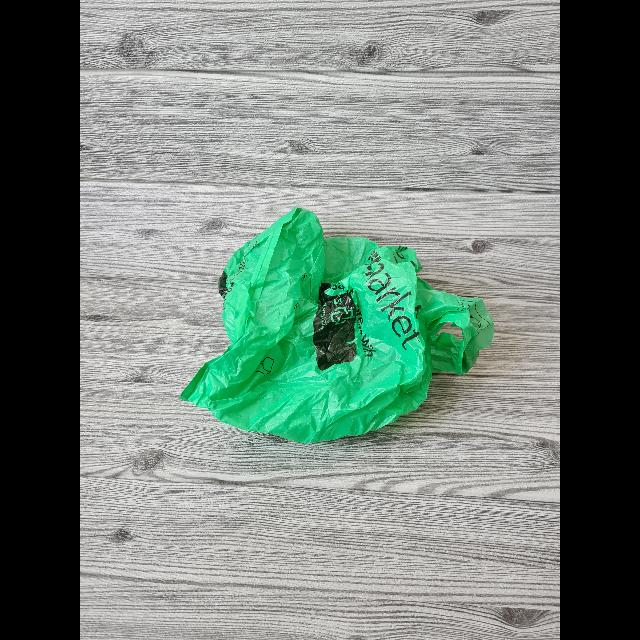plastic_bag: (182, 208, 494, 444)
